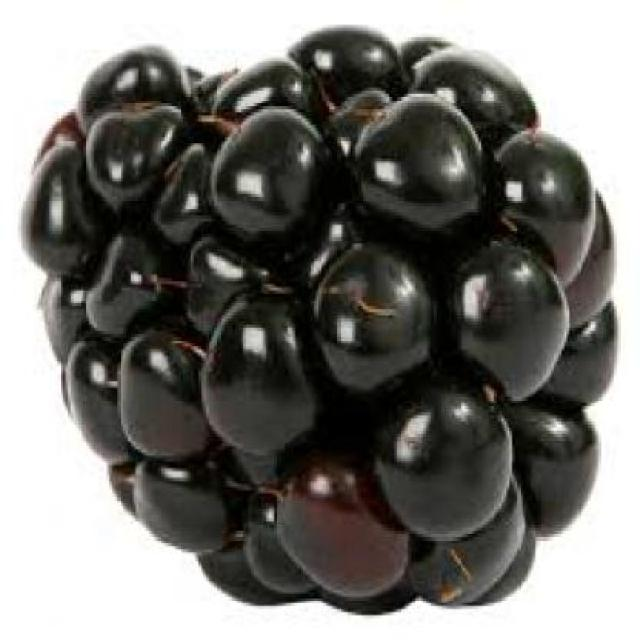BIODEGRADABLE: (18, 26, 618, 617)
